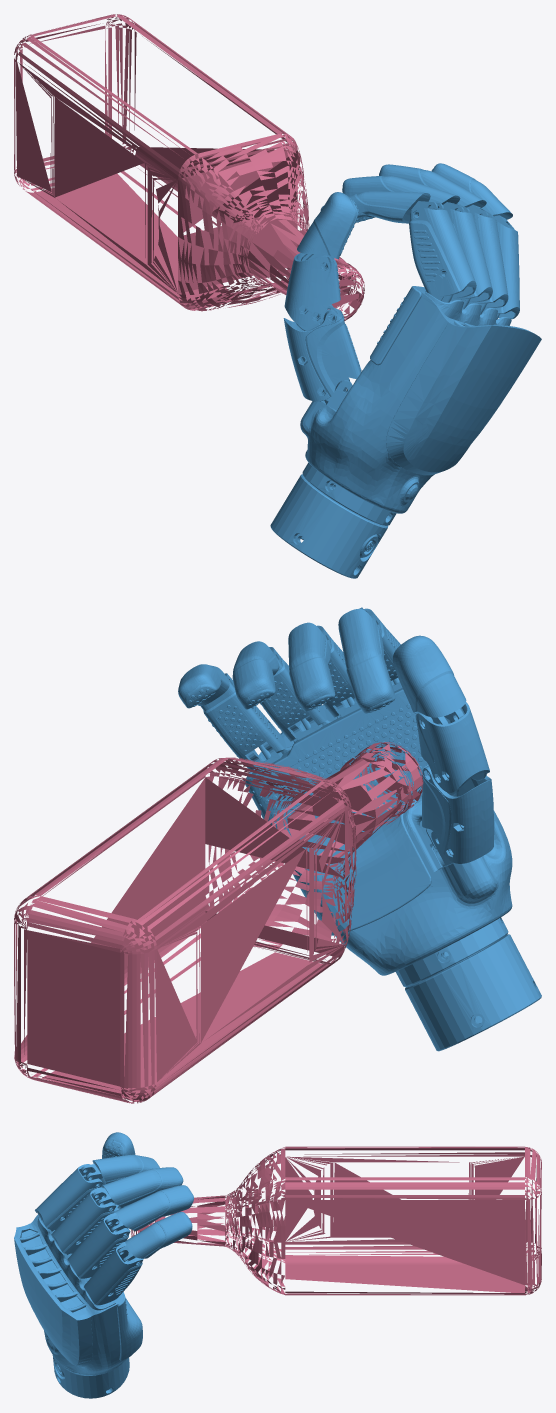
3 views of the same model, one above another, from view 1: azimuth 30°, elevation 25°; view 2: azimuth 150°, elevation 25°; view 3: azimuth 270°, elevation 25° (orthographic). The views are drawn at different scales.
Visible parts, largest first — view 1: 5; view 2: 5; view 3: 5.
Part boxes in pixels (box(x1,y1,x2,y2)): 5: box(14, 14, 541, 578); 5: box(14, 607, 541, 1103); 5: box(14, 1132, 541, 1398).
Bounding box in the file's own units: 0.1487 × 0.1948 × 0.348.
